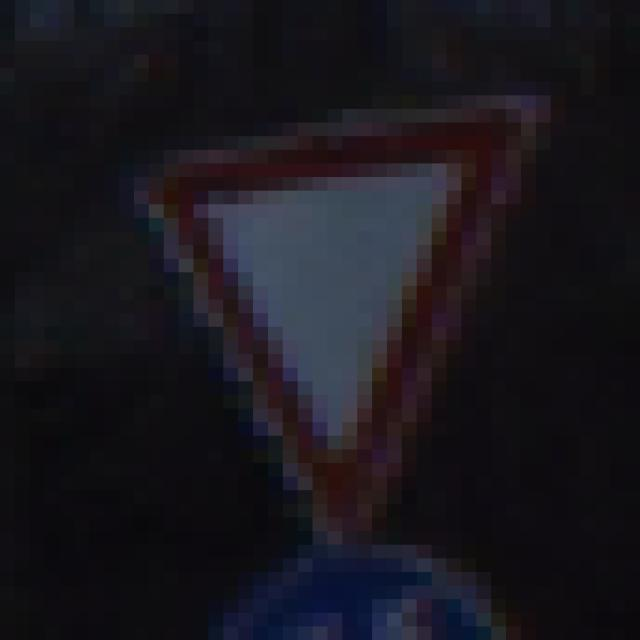Give Way: (90, 69, 567, 573)
